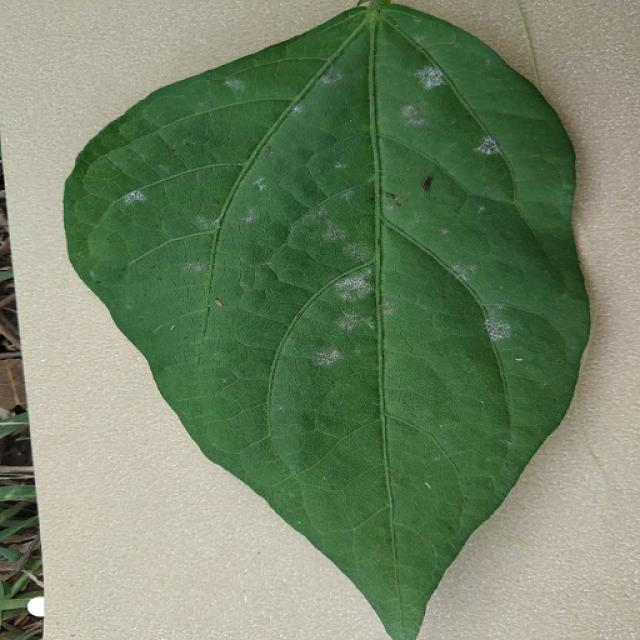Blackgram: (64, 5, 589, 639)
Powdery_Mildew: (331, 264, 374, 301), (482, 308, 512, 342), (337, 310, 370, 336), (416, 65, 446, 90), (401, 103, 426, 127), (314, 347, 342, 367), (322, 221, 347, 243), (342, 240, 366, 262), (475, 135, 500, 155), (450, 262, 475, 282), (193, 214, 214, 230), (123, 190, 145, 204), (182, 261, 205, 273), (225, 78, 244, 92), (320, 71, 339, 85), (383, 199, 398, 215), (380, 301, 396, 315), (242, 212, 255, 225), (254, 178, 266, 191), (484, 318, 495, 330), (291, 104, 302, 115), (335, 161, 348, 170), (477, 204, 487, 213), (515, 358, 523, 362)
